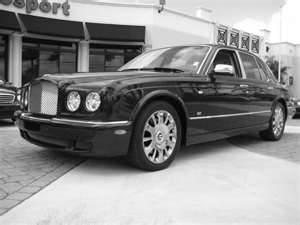car: (20, 46, 291, 170)
